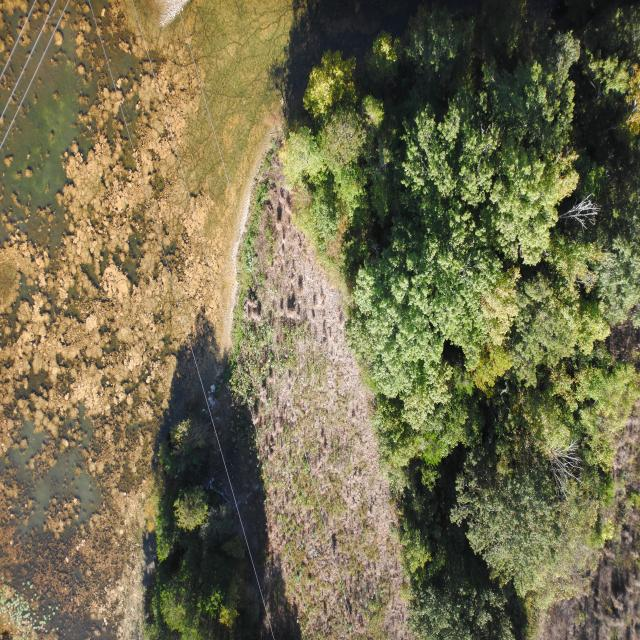Area of Interest: (294, 27, 637, 631), (150, 465, 252, 625)
